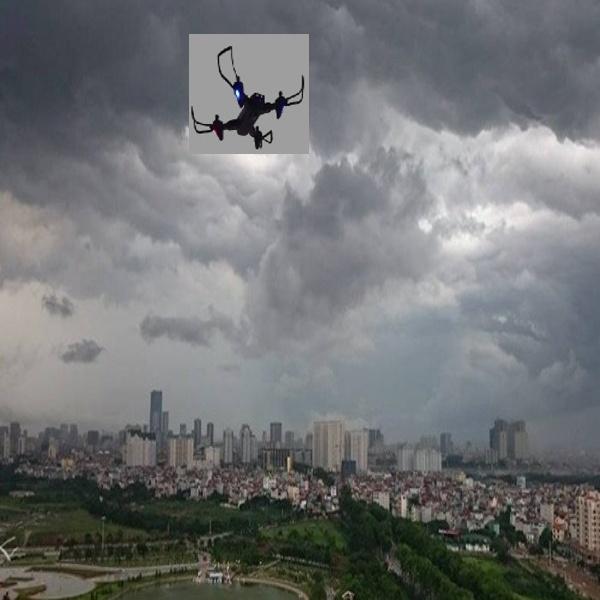drone: (188, 37, 308, 150)
